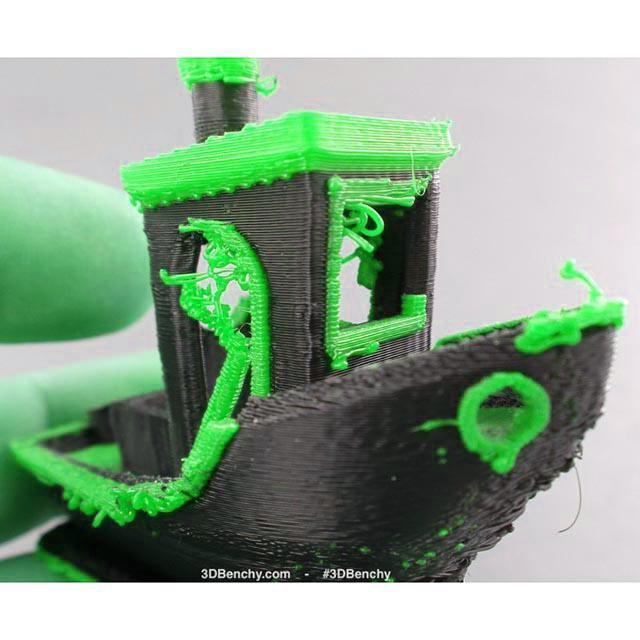spaghetti: (155, 212, 259, 356), (59, 479, 170, 532), (333, 189, 391, 269)
